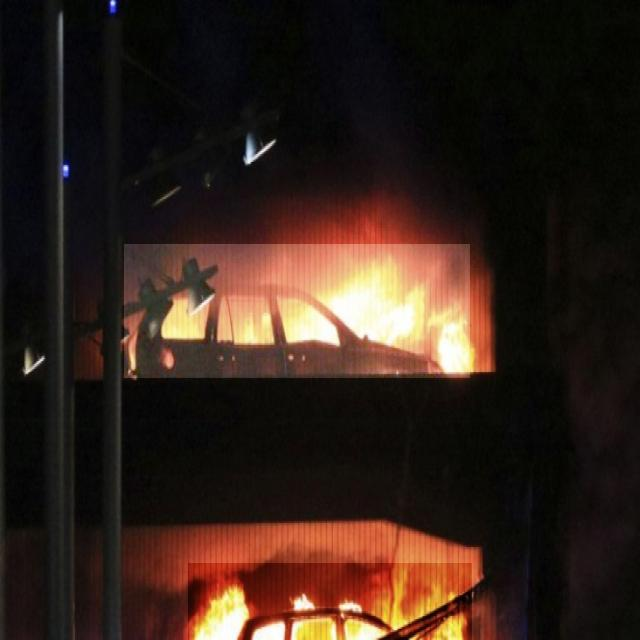Fire: (124, 244, 470, 378), (188, 563, 472, 640)
